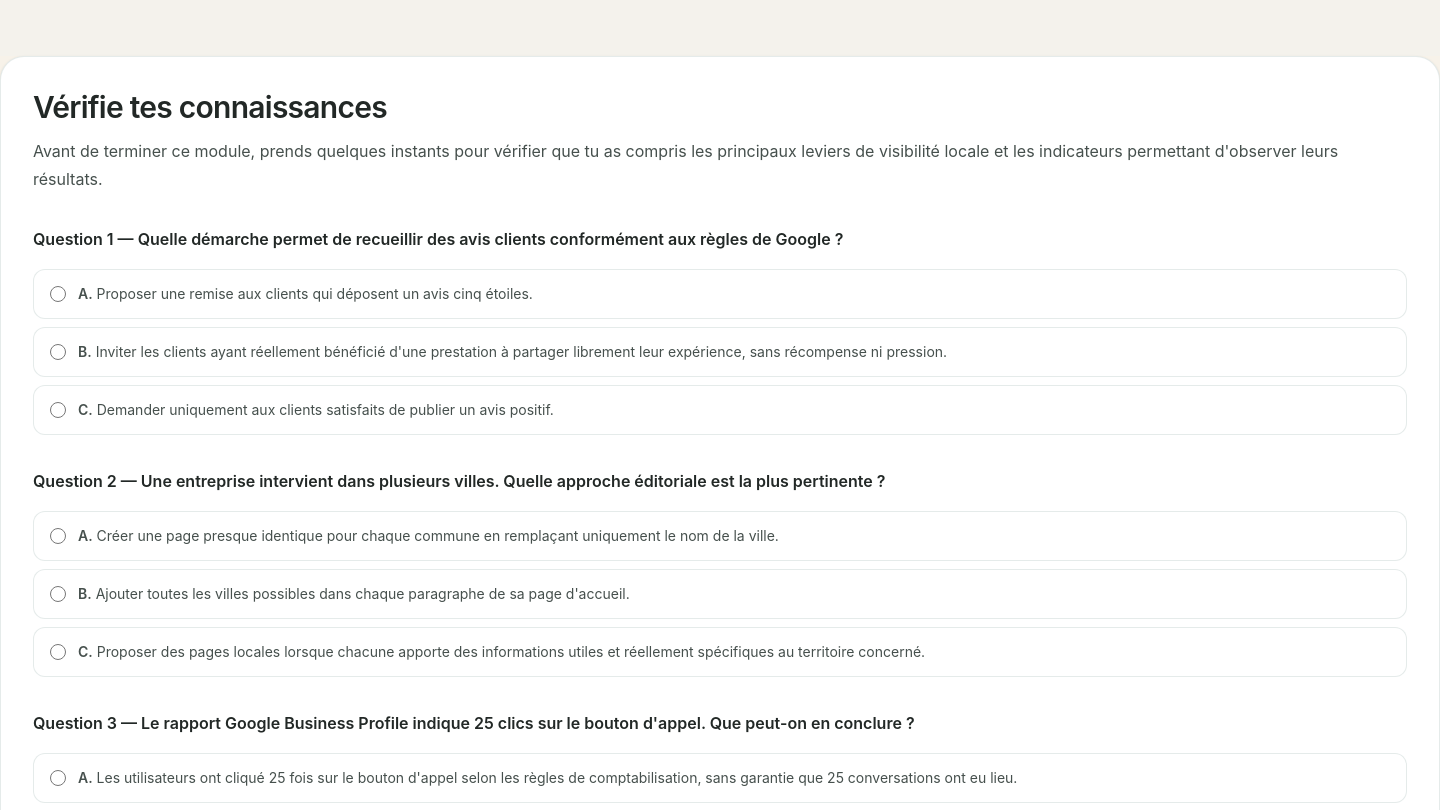
questionnaire de la vingt-cinquième leçon SEO › corrige les quatre réponses après validation
Expected: the text "Question 4 : C." is not shown
Click the radio button named "quiz-question-1".
click(58, 352)  # box [50,344,66,360]
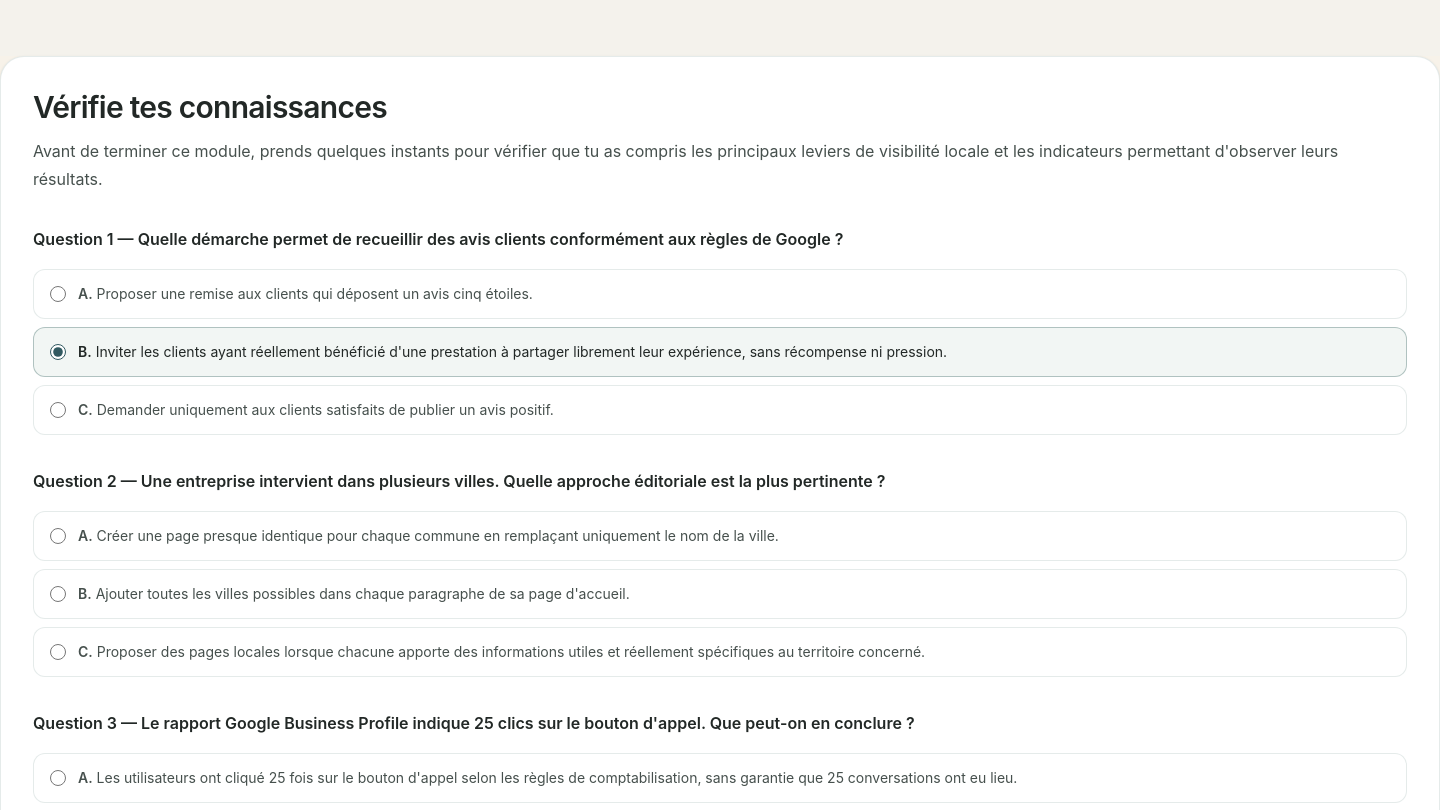
Click the radio button named "quiz-question-2".
click(58, 652)  # box [50,644,66,660]
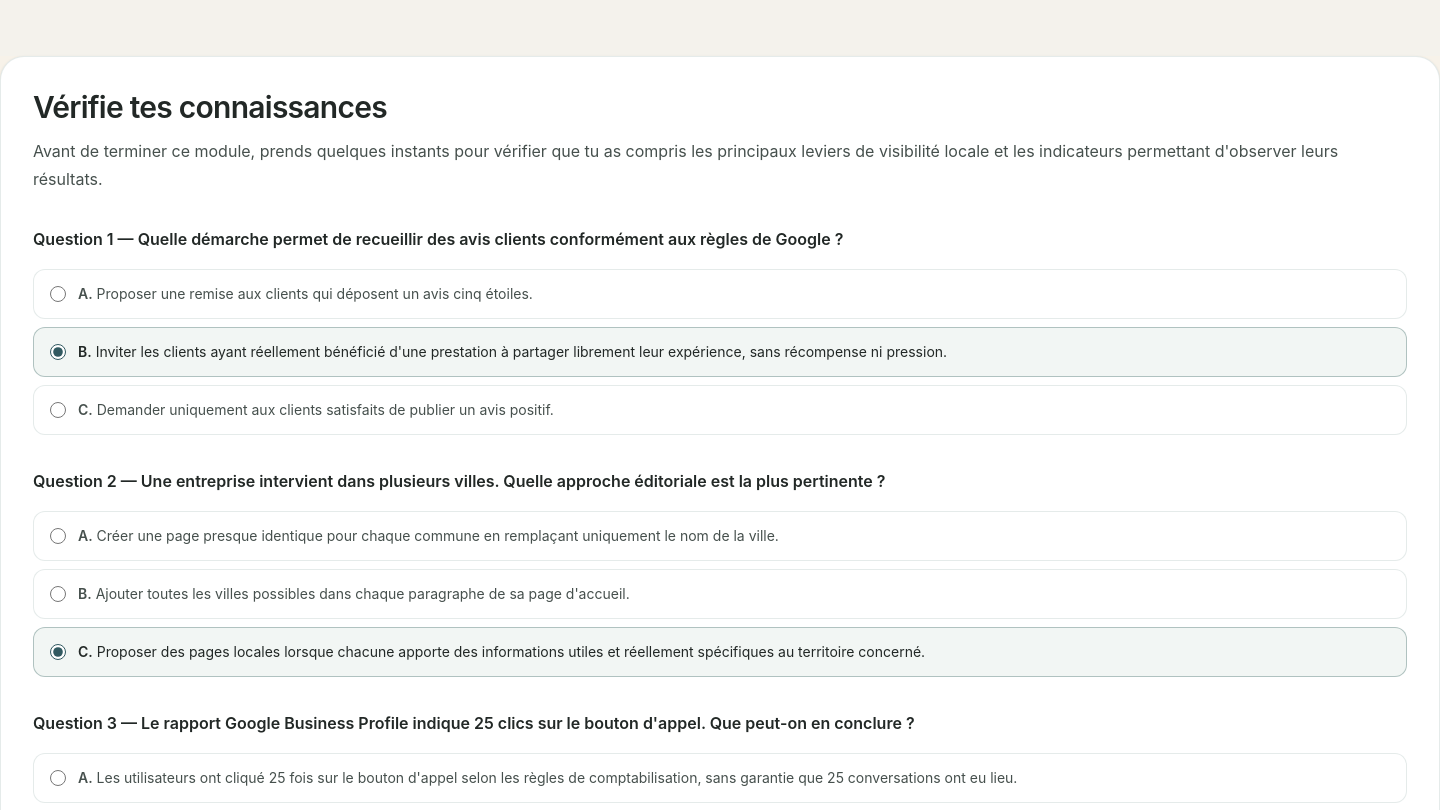
Click the radio button named "quiz-question-3".
click(58, 778)  # box [50,770,66,786]
(page scrolled)
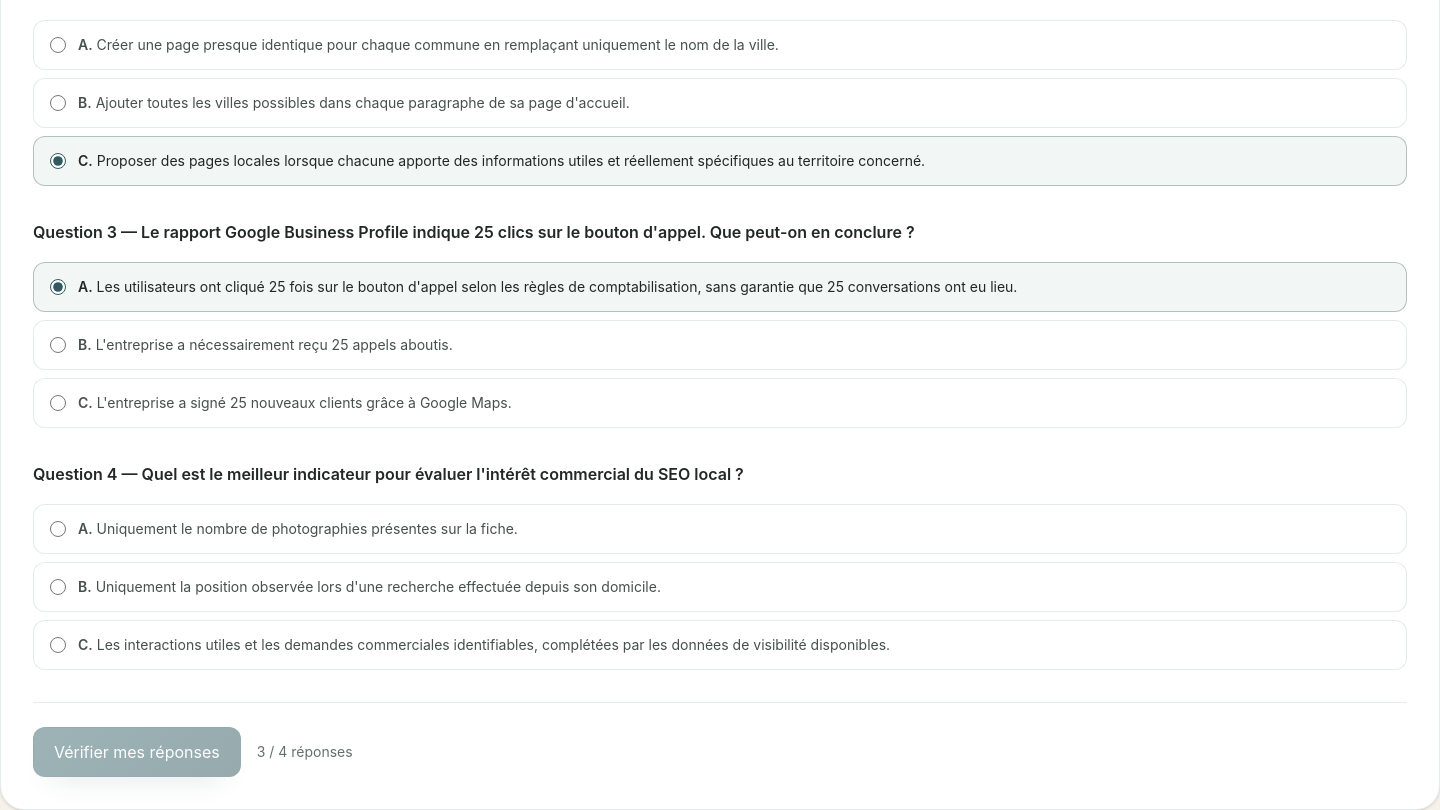
Click the radio button named "quiz-question-4".
click(58, 645)  # box [50,637,66,653]
(page scrolled)
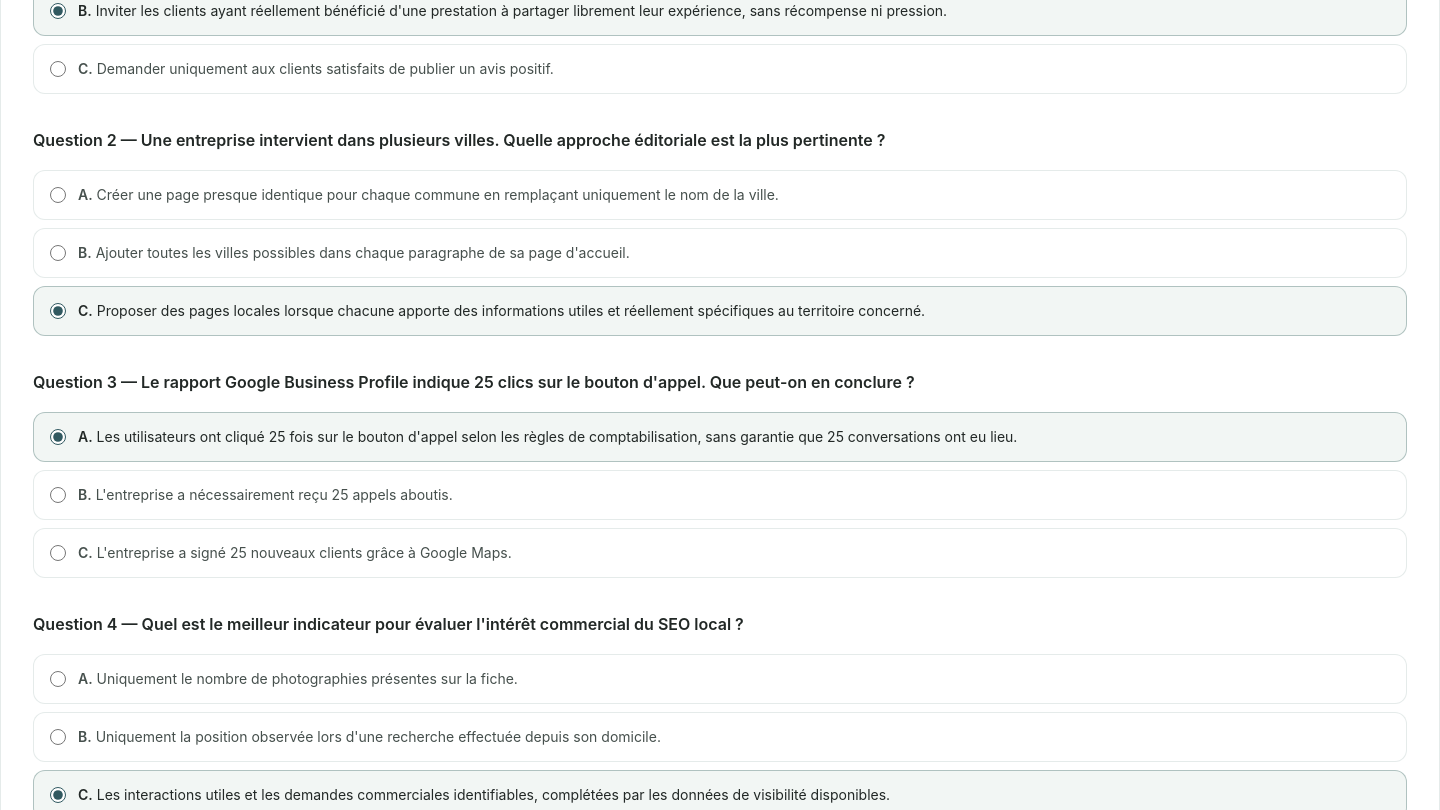
Submit the form
(page scrolled)
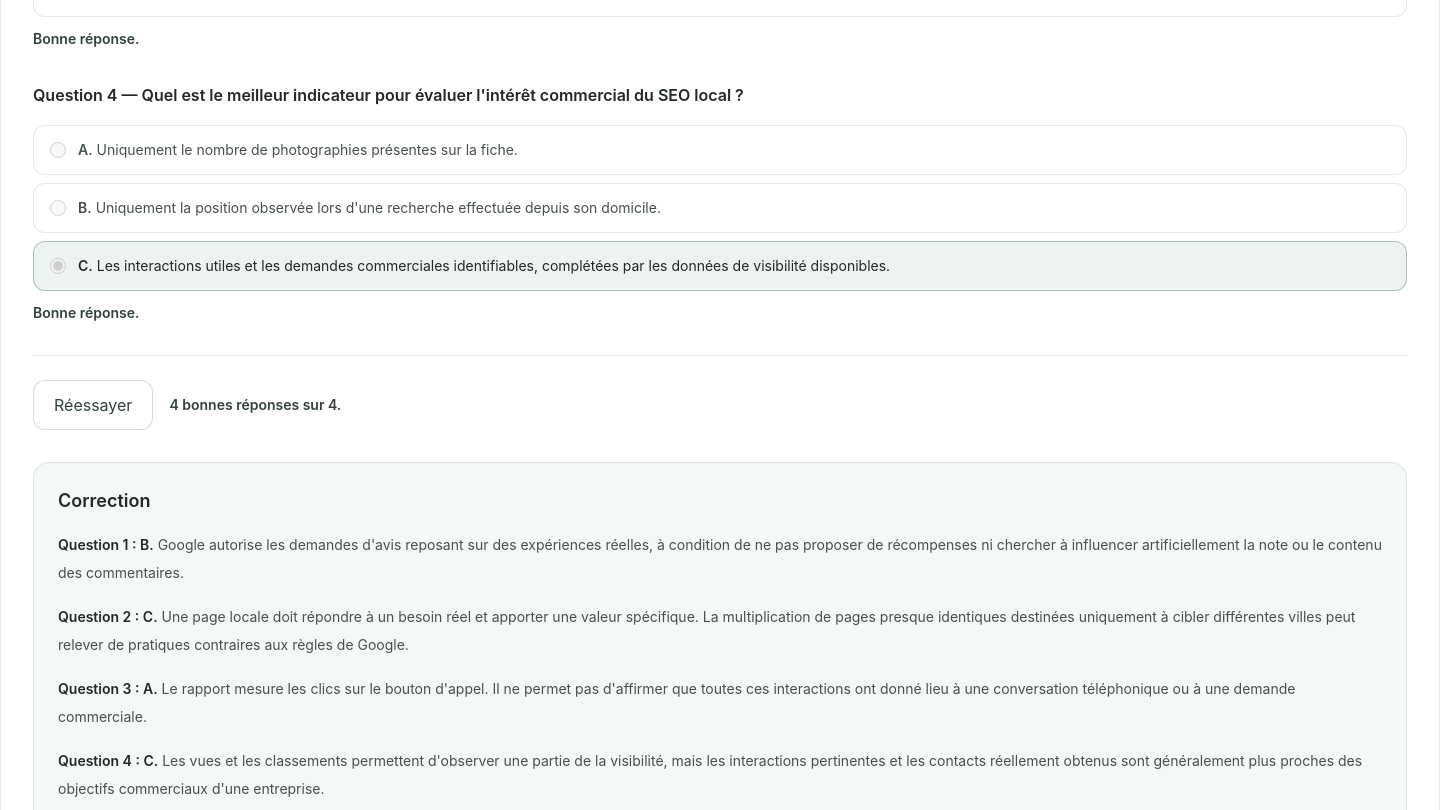
Now the message "4 bonnes réponses sur 4." is shown, box [169,395,341,415]
Now the text "Question 4 : C." is shown, box [58,752,158,769]
Now the text "contacts réellement obtenus" is shown, box [58,752,1362,797]
